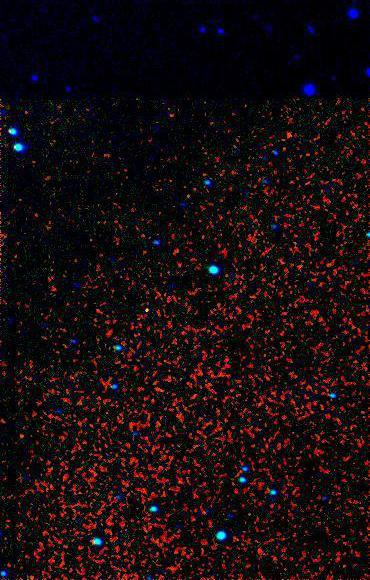star: (6, 421, 36, 451)
